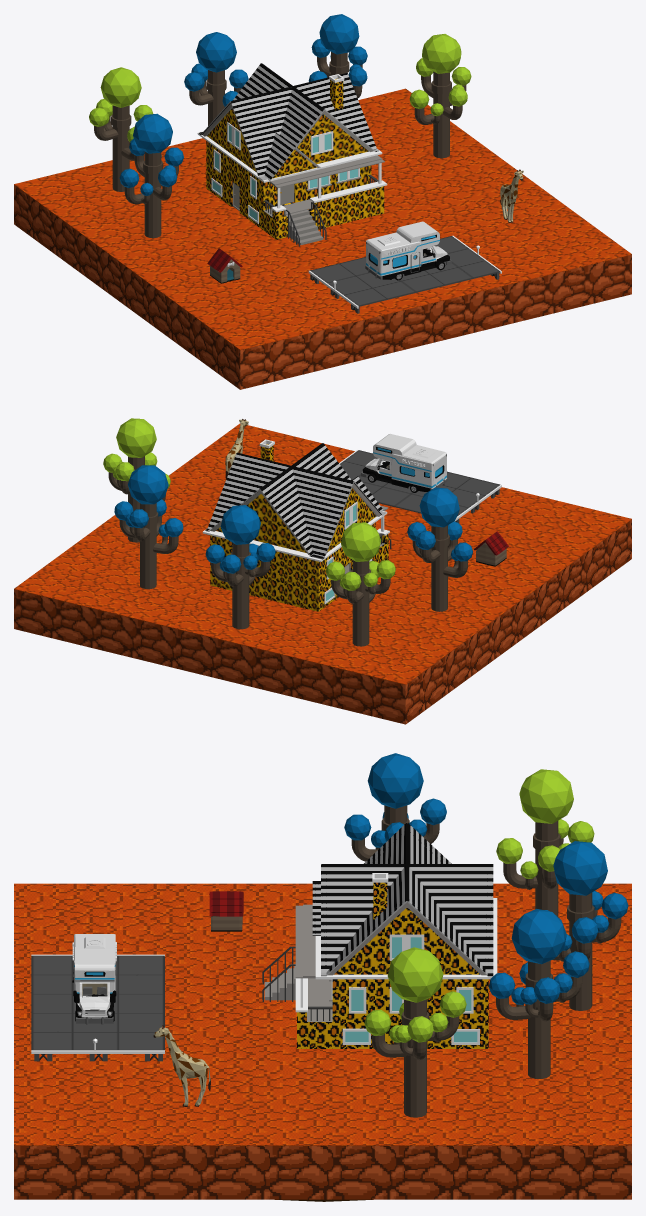
3 views of the same model, one above another, from view 1: azimuth 30°, elevation 25°; view 2: azimuth 150°, elevation 25°; view 3: azimuth 270°, elevation 25° (orthographic). The views are drawn at different scales.
Visible parts, largest first — view 1: Cube.001, Cube.637, VEHICLES_CAMPER, OBJRANDOM_DOGHOUSE, ANIMAL_JIRAFA; view 2: Cube.001, Cube.637, VEHICLES_CAMPER, OBJRANDOM_DOGHOUSE, ANIMAL_JIRAFA; view 3: Cube.001, Cube.637, VEHICLES_CAMPER, ANIMAL_JIRAFA, OBJRANDOM_DOGHOUSE.
Part boxes in pixels (left/top/right/bottom): Cube.001: left=14, top=14, right=631, bottom=389; Cube.637: left=197, top=63, right=387, bottom=246; VEHICLES_CAMPER: left=365, top=221, right=451, bottom=280; OBJRANDOM_DOGHOUSE: left=207, top=248, right=242, bottom=283; ANIMAL_JIRAFA: left=500, top=169, right=523, bottom=222; Cube.001: left=14, top=418, right=631, bottom=724; Cube.637: left=202, top=439, right=391, bottom=611; VEHICLES_CAMPER: left=361, top=434, right=447, bottom=492; OBJRANDOM_DOGHOUSE: left=473, top=531, right=508, bottom=566; ANIMAL_JIRAFA: left=225, top=419, right=248, bottom=478; Cube.001: left=14, top=753, right=631, bottom=1199; Cube.637: left=262, top=823, right=497, bottom=1048; VEHICLES_CAMPER: left=72, top=934, right=116, bottom=1024; ANIMAL_JIRAFA: left=153, top=1025, right=210, bottom=1106; OBJRANDOM_DOGHOUSE: left=209, top=891, right=243, bottom=931.
Bounding box in the file's own units: 4000 × 1730 × 4000.
42 materials, 5 textured.
